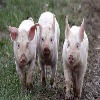heo: (60, 14, 88, 71), (31, 12, 61, 64), (6, 22, 40, 66)
